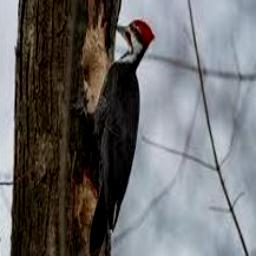Woodpecker: (78, 19, 155, 256)
